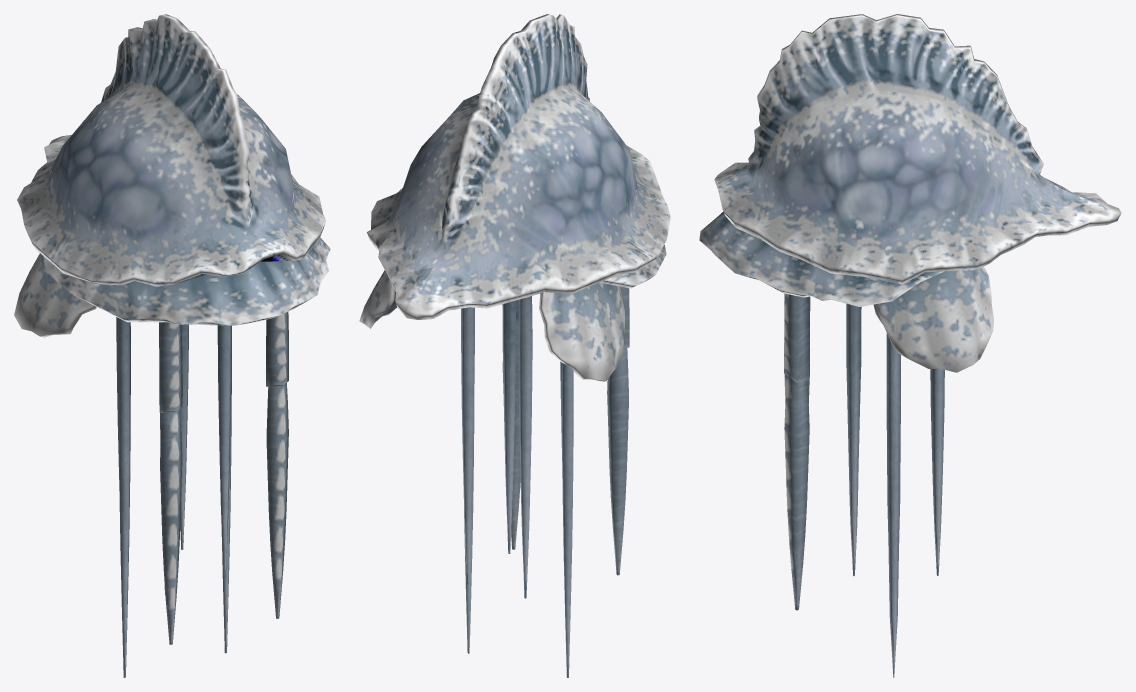
Rendered from 249-manowar.glb.
3 renders of one model, left to right at view 1: azimuth 30°, elevation 25°; view 2: azimuth 150°, elevation 25°; view 3: azimuth 270°, elevation 25°, orthographic.
Size of the model in its own units: 2.25 by 5.26 by 3.16.
Materials: 1 (1 with a texture image).
